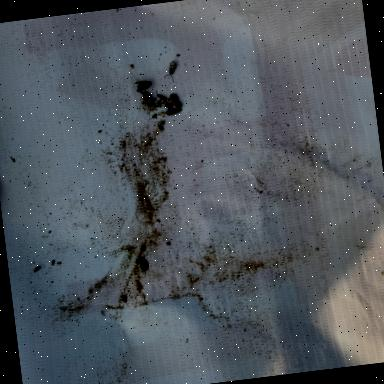pbw: (142, 90, 154, 110), (168, 91, 182, 108), (165, 106, 182, 115), (156, 92, 166, 101)
